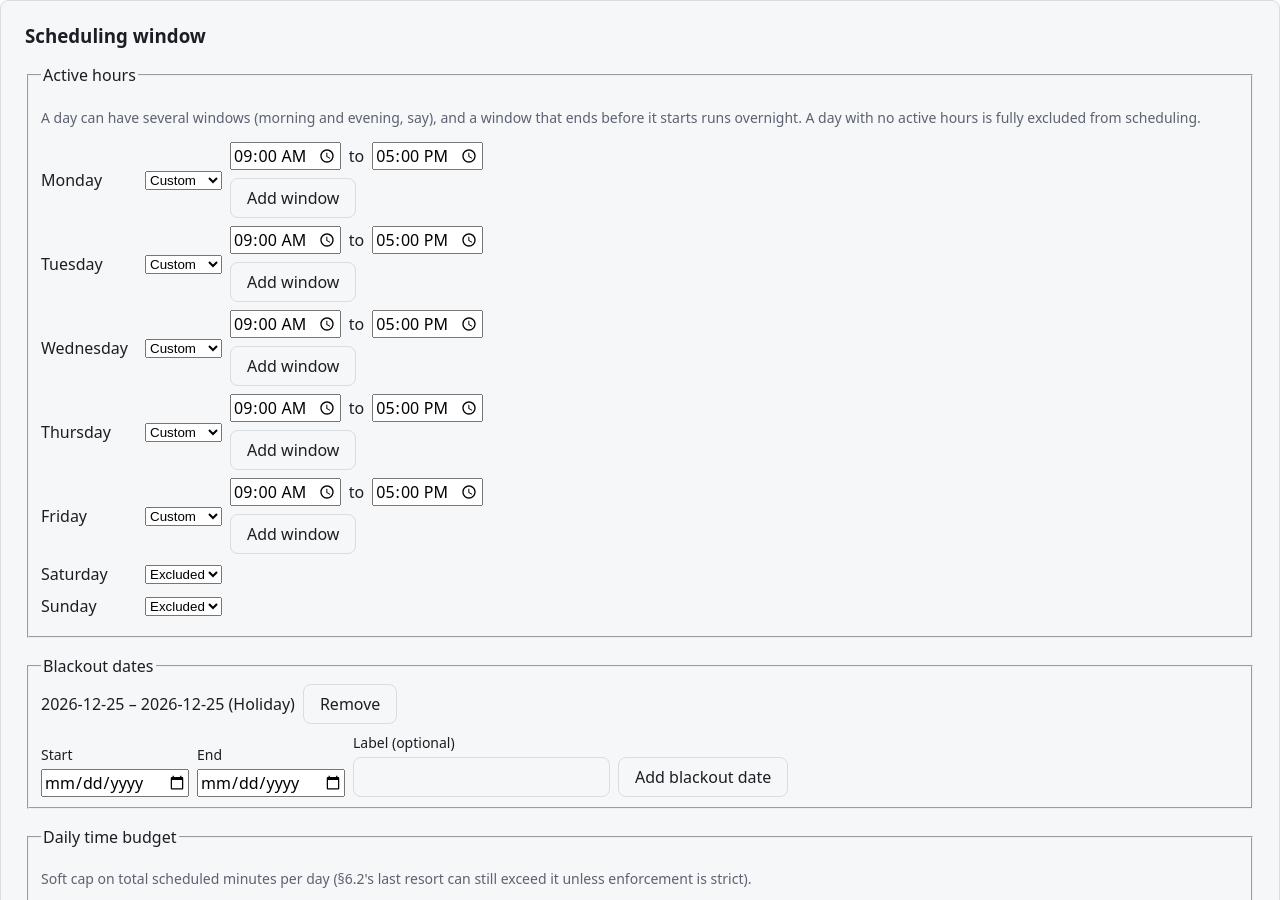
Test: SchedulingWindowSection › rejects a blackout date whose end precedes its start, without adding it
The image size is (1280, 900).
In the date field labelled "Start": (115, 783) [41,769,189,797], type "2026-07-10"
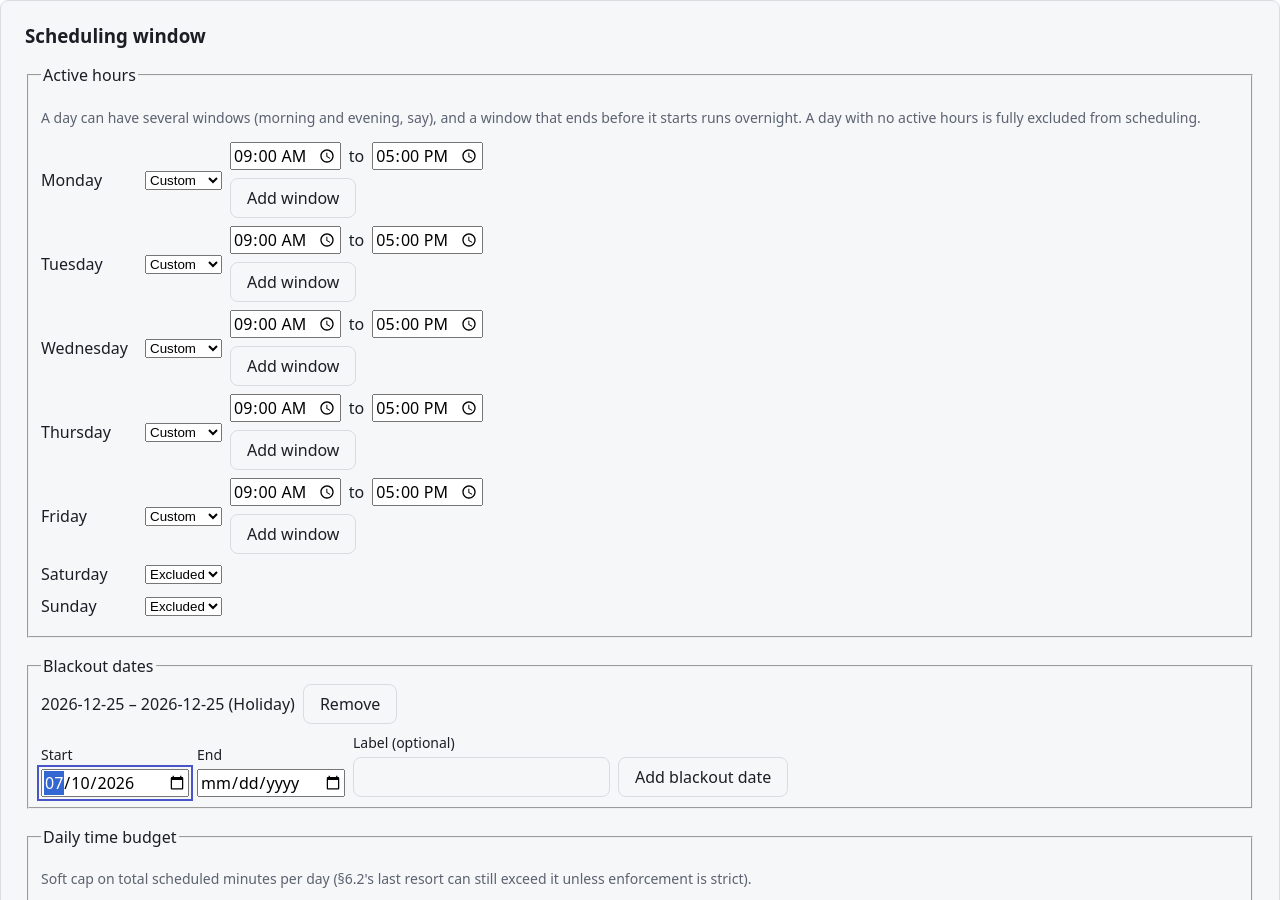
In the date field labelled "End": (271, 783) [197,769,345,797], type "2026-07-01"
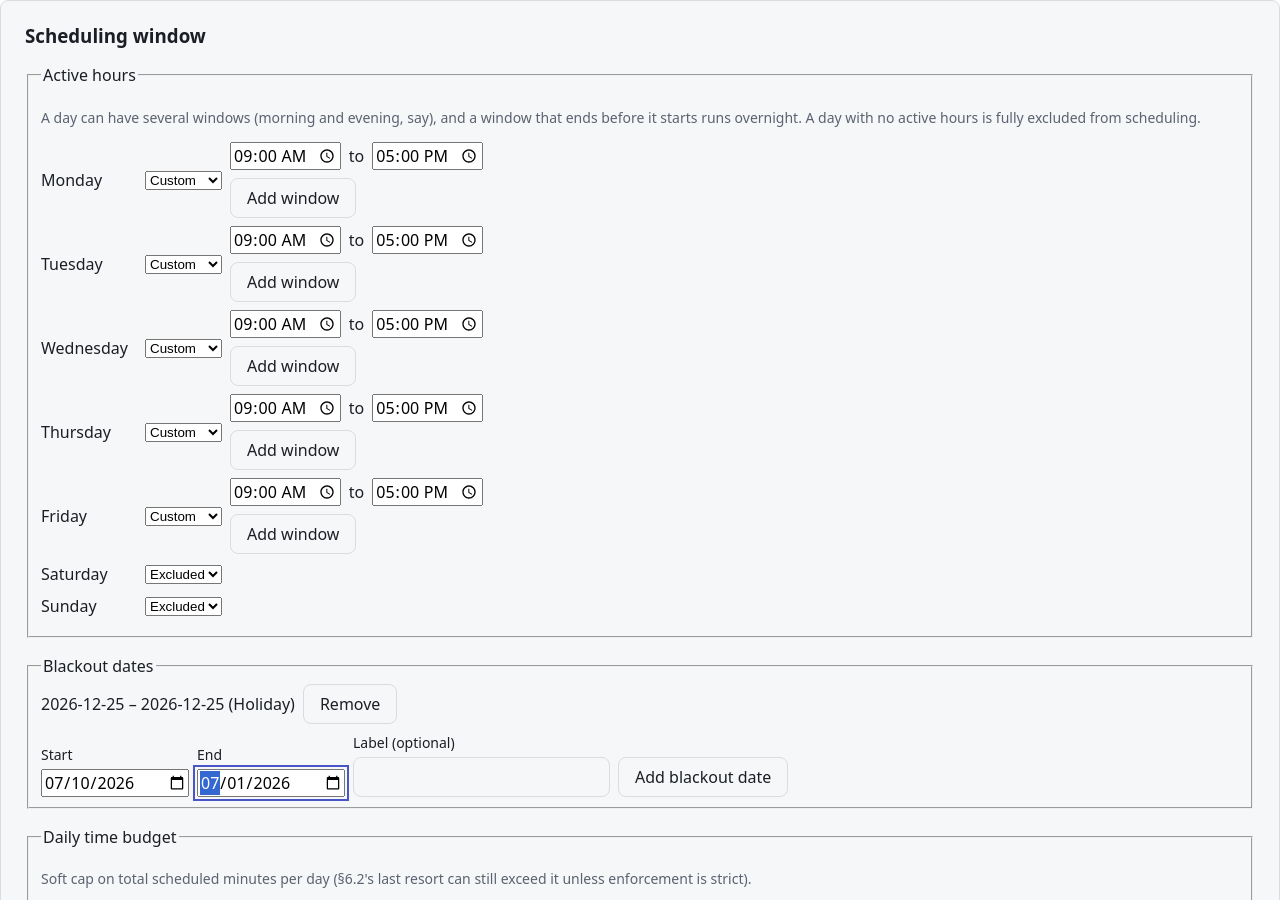
Click the button "Add blackout date": (703, 777) [618,757,788,797]
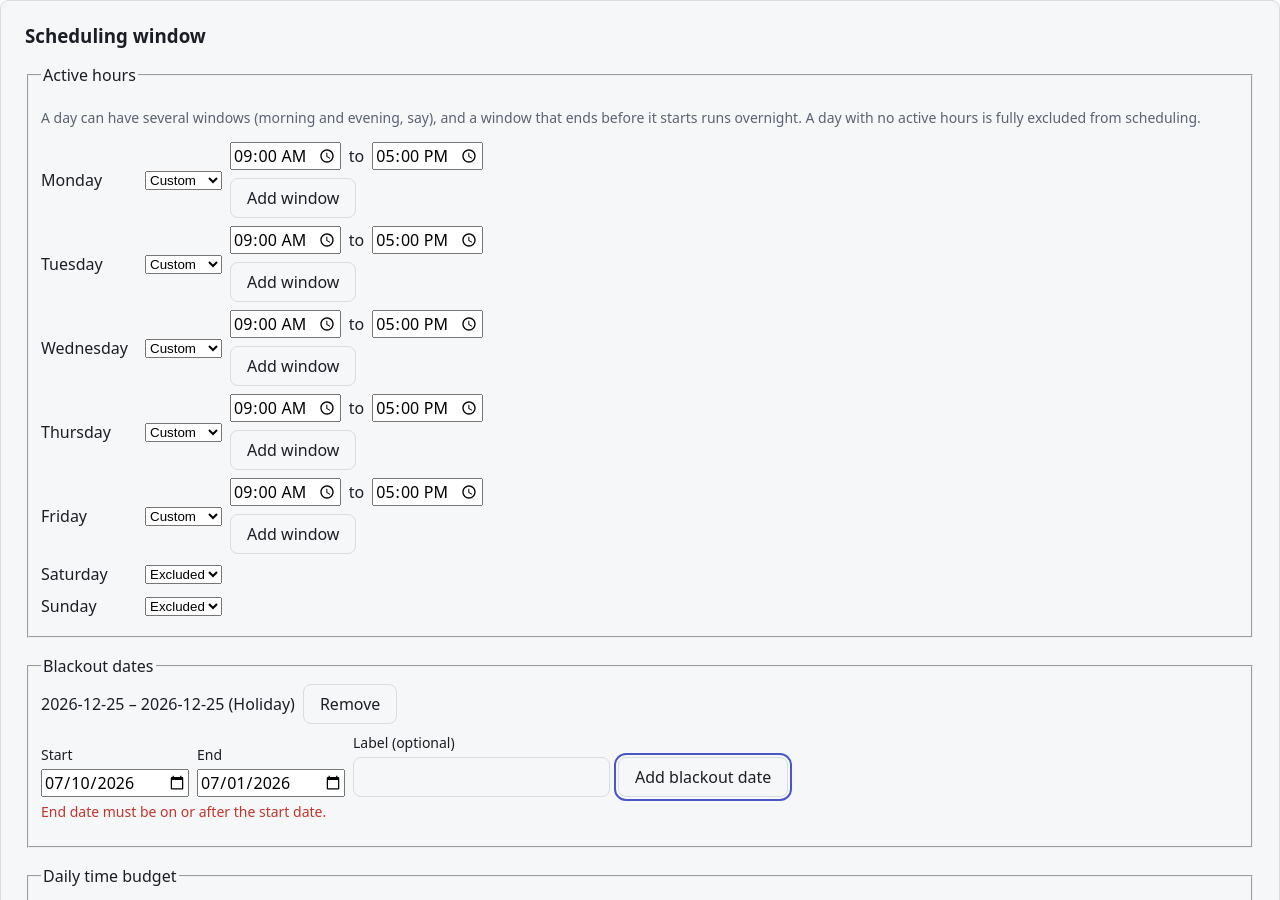
Now the text "End date must be on or after the start date." is shown, box [41,802,326,821]
